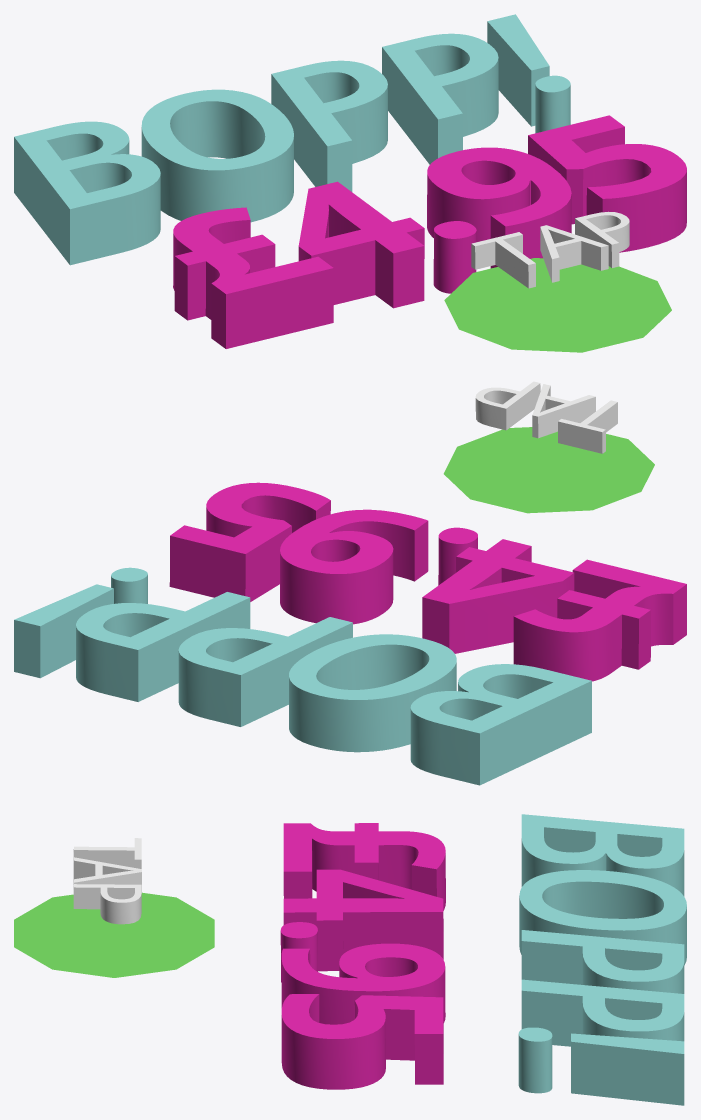
File: Bopp_i.gltf
3 views of the same model, one above another, from view 1: azimuth 30°, elevation 25°; view 2: azimuth 150°, elevation 25°; view 3: azimuth 270°, elevation 25° (orthographic). The views are drawn at different scales.
Visible parts, largest first — view 1: P (×3), O, B, £, CirclePlane, 5, 9, 4, !, ., A, T; view 2: P (×3), B, O, £, 9, CirclePlane, 5, 4, !, A, T, .; view 3: P (×3), 5, CirclePlane, O, 4, !, £, B, 9, A, T, ..
Boxes of the visible parts, x1,y1,x2,y2 form: P (×3): [271, 33, 629, 267]; O: [141, 89, 293, 222]; B: [14, 121, 160, 265]; £: [173, 207, 333, 348]; CirclePlane: [444, 258, 671, 352]; 5: [528, 115, 686, 252]; 9: [427, 147, 571, 268]; 4: [298, 181, 424, 308]; !: [487, 14, 570, 133]; .: [433, 221, 476, 293]; A: [540, 225, 608, 282]; T: [471, 232, 535, 288]; P (×3): [76, 381, 540, 726]; B: [410, 664, 591, 785]; O: [289, 634, 456, 752]; £: [513, 559, 686, 681]; 9: [280, 509, 428, 624]; CirclePlane: [443, 427, 654, 513]; 5: [169, 482, 330, 601]; 4: [422, 539, 574, 653]; !: [14, 567, 147, 678]; A: [532, 384, 595, 438]; T: [558, 400, 617, 453]; .: [438, 527, 477, 585]; P (×3): [73, 884, 684, 1046]; 5: [281, 994, 443, 1089]; CirclePlane: [14, 892, 214, 977]; O: [519, 870, 686, 965]; 4: [283, 869, 443, 971]; !: [518, 1027, 684, 1105]; £: [283, 823, 445, 910]; B: [521, 814, 684, 896]; 9: [281, 943, 445, 1024]; A: [73, 857, 141, 893]; T: [73, 838, 141, 868]; .: [280, 922, 317, 982].
Bounding box in the file's own units: 0.269 × 0.0605 × 0.3188.
